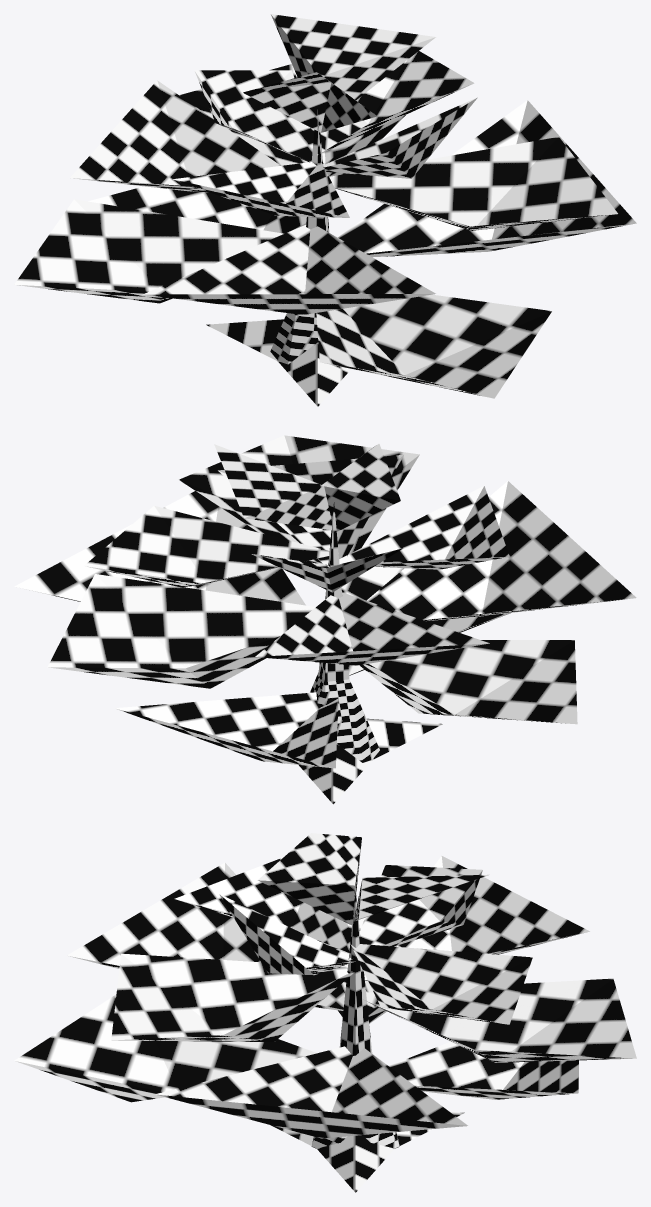
The model's file is naflbu15.dae.
3 views of the same model, one above another, from view 1: azimuth 30°, elevation 25°; view 2: azimuth 150°, elevation 25°; view 3: azimuth 270°, elevation 25° (orthographic). The views are drawn at different scales.
Parts seen in each view (by area): view 1: crown; view 2: crown; view 3: crown.
Boxes of the visible parts, box(x1,y1,x2,y2) form: crown: box(14, 14, 636, 406); crown: box(14, 435, 636, 804); crown: box(14, 833, 636, 1192).
Bounding box in the file's own units: 1.29 × 1.31 × 0.6832.
Materials: 1 (1 with a texture image).
